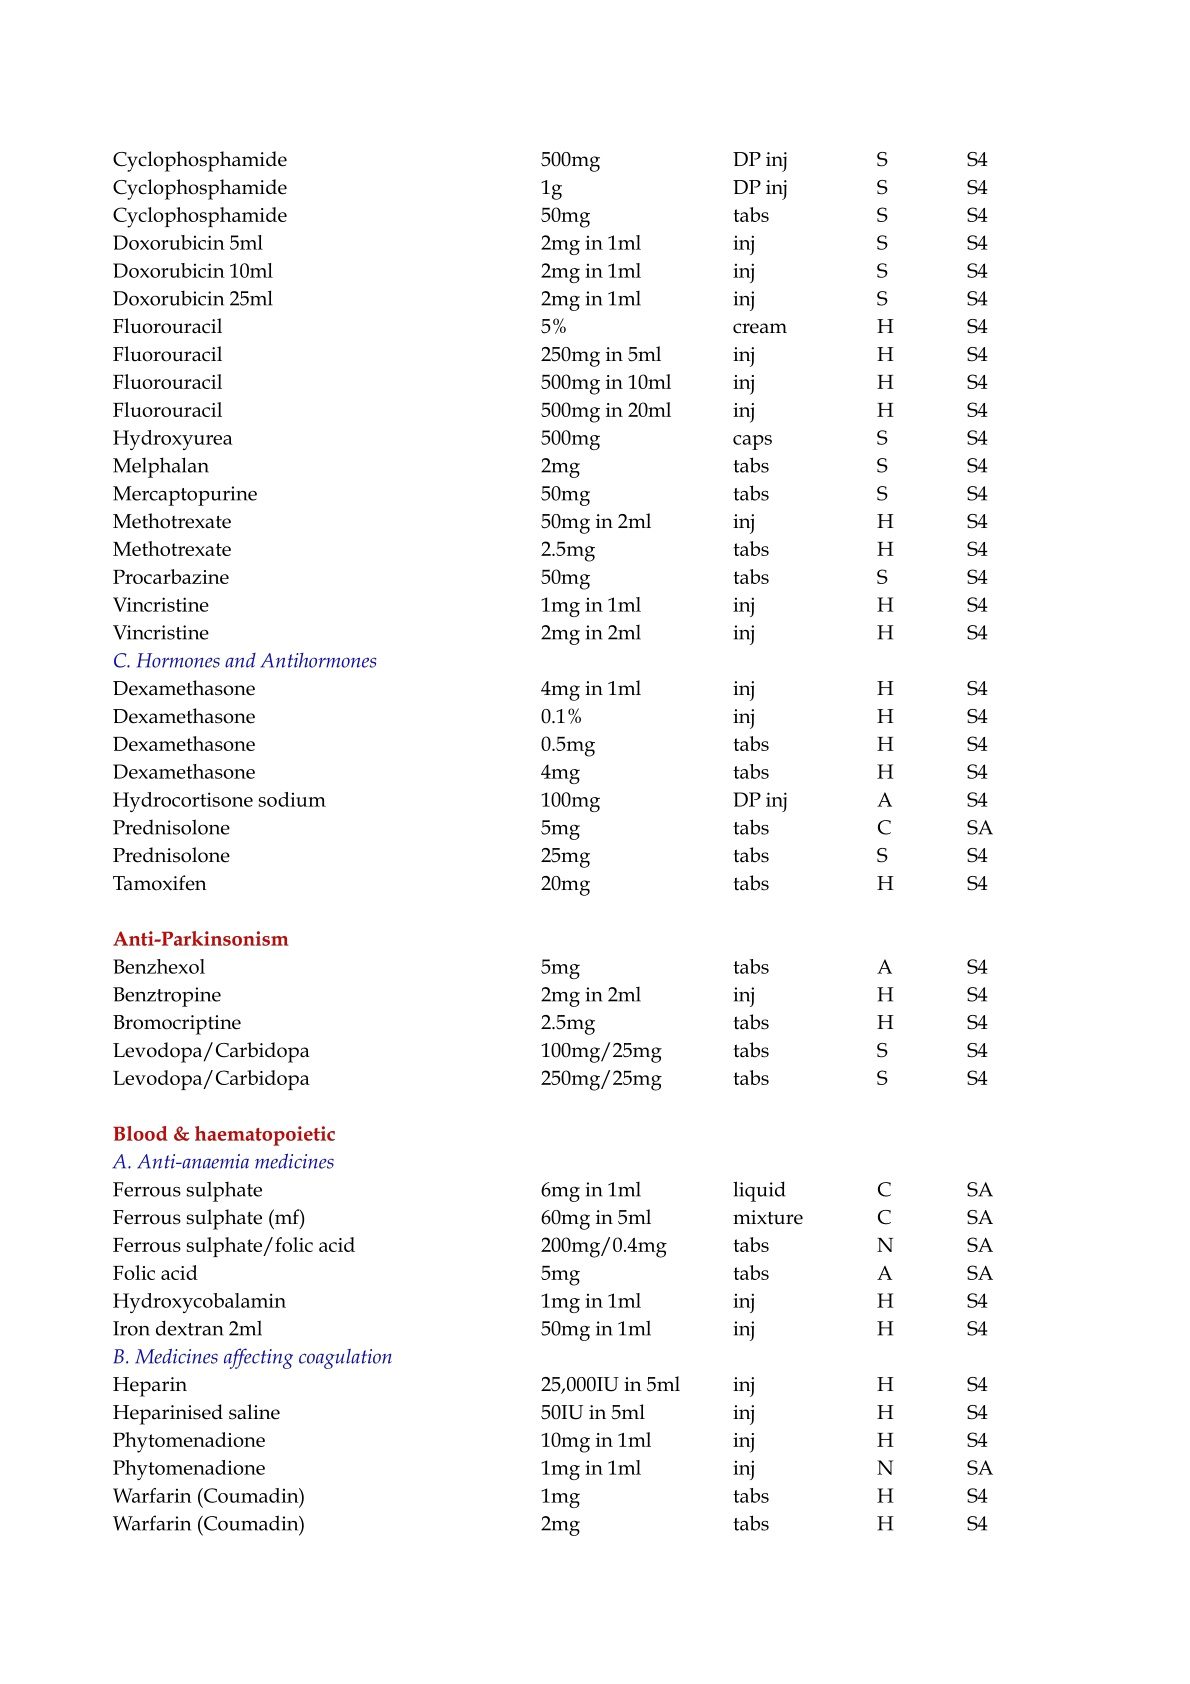nolines: (106, 145, 999, 1537)
